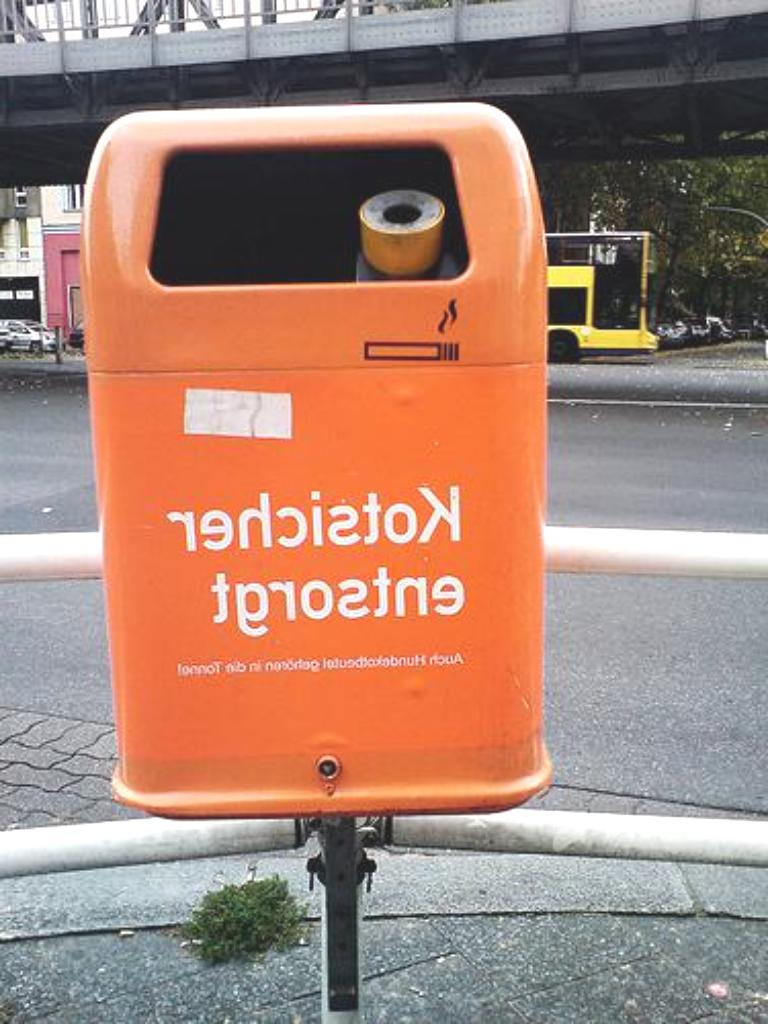dustbin: (95, 82, 548, 869)
